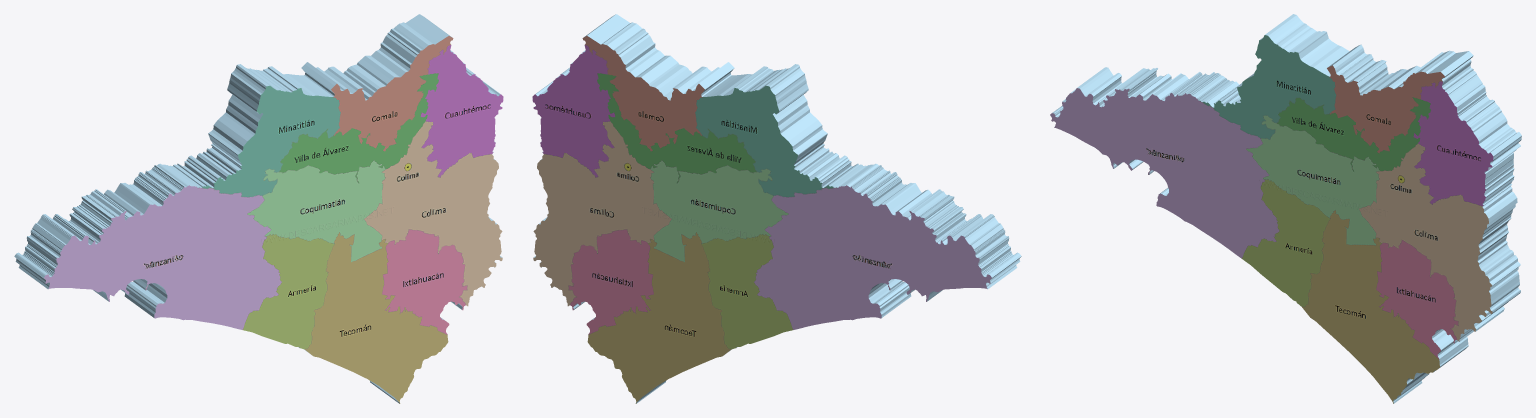
File: colima.glb
3 renders of one model, left to right at view 1: azimuth 30°, elevation 25°; view 2: azimuth 150°, elevation 25°; view 3: azimuth 330°, elevation 25°, orthographic. The views are drawn at different scales.
Parts seen in each view (by area): view 1: Plano; view 2: Plano; view 3: Plano.
Part boxes in pixels (x1,y1,x2,y2): Plano: (14, 14, 503, 403); Plano: (532, 14, 1021, 403); Plano: (1050, 14, 1521, 403).
Size of the model in its own units: 1.03 by 0.7611 by 0.1145.
Materials: 1 (1 with a texture image).
